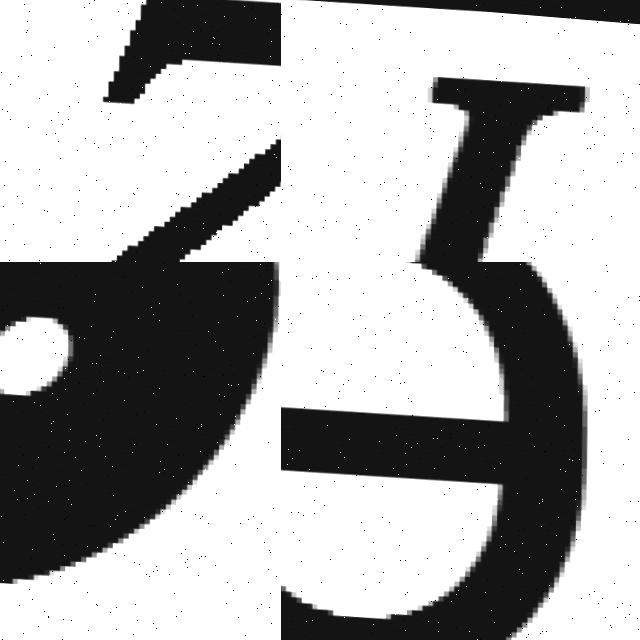2: (0, 0, 281, 262)
E: (281, 262, 589, 640)
I: (293, 55, 594, 262)
O: (0, 262, 281, 615)
